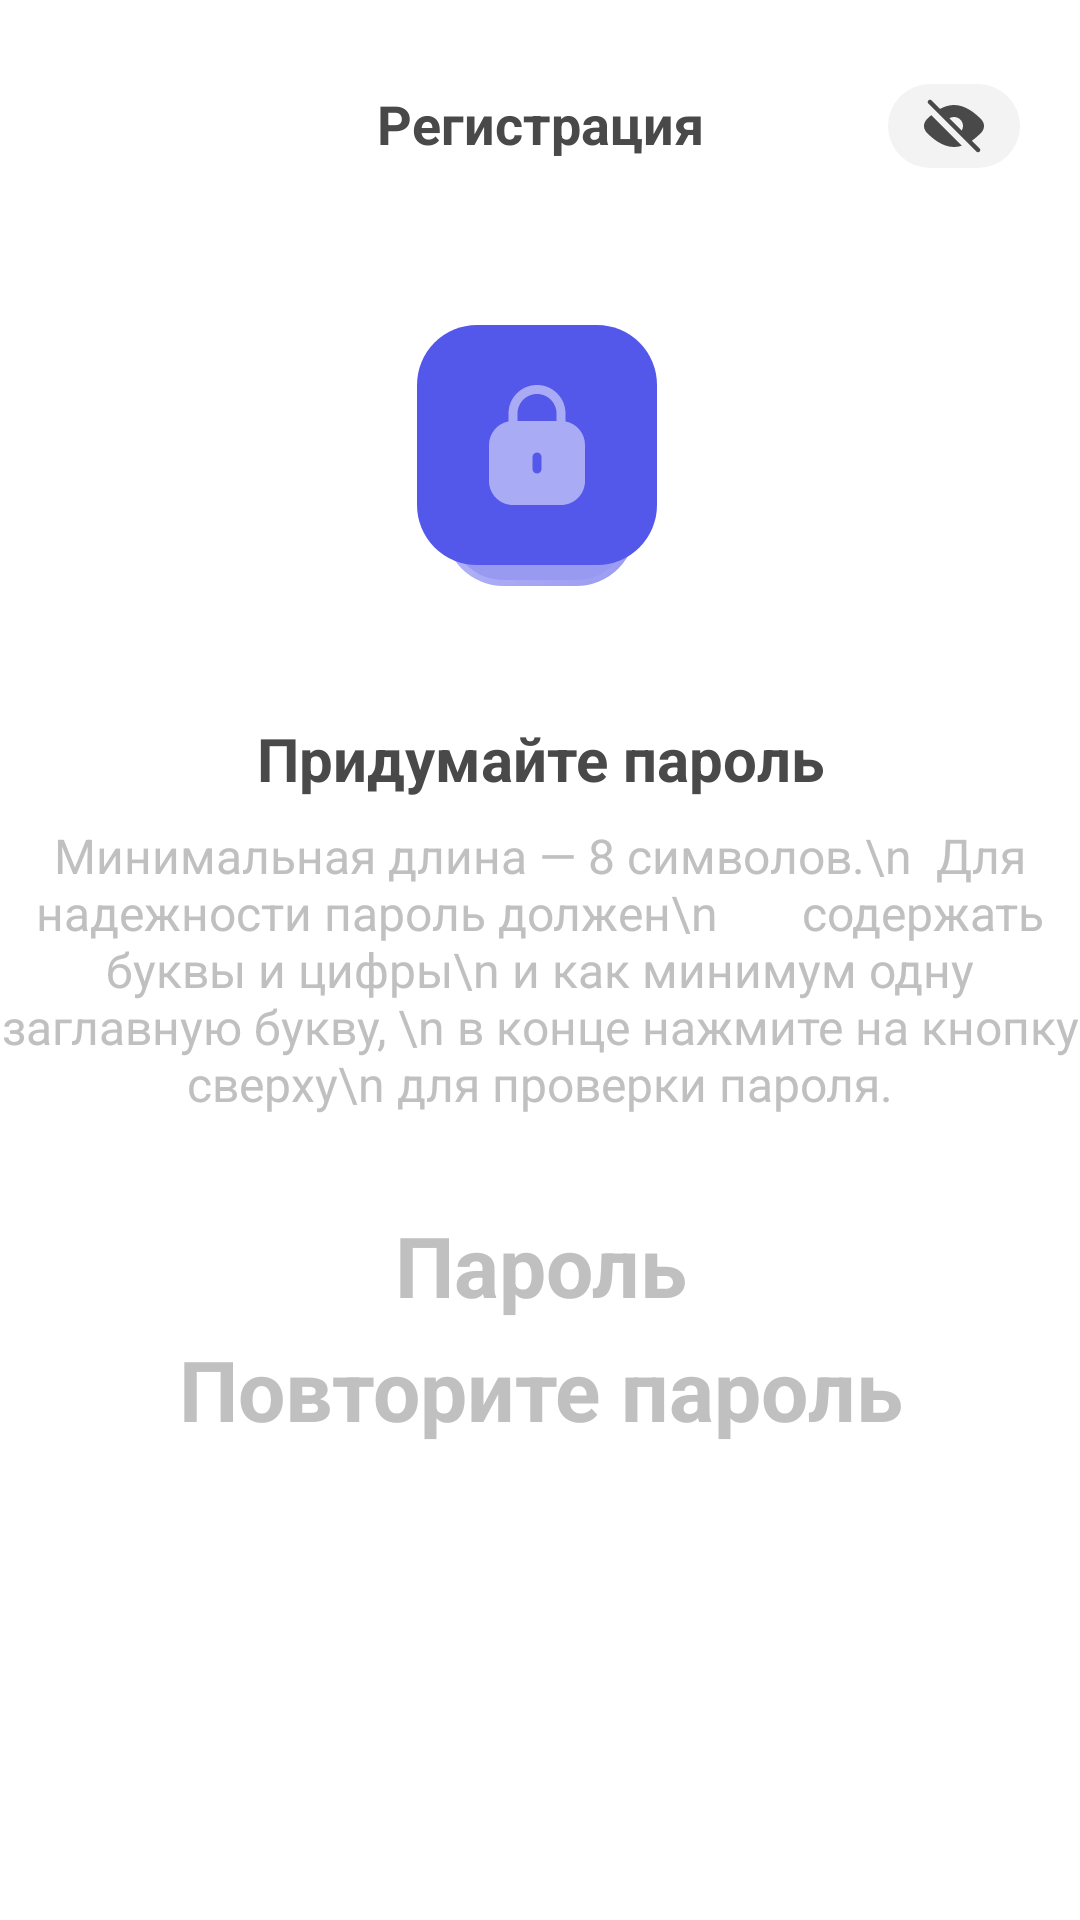

Icon bounding boxes for this 1080×1920 phone screenshot, format (x1, y1, x2, y2):
pass: (417, 325, 657, 586)
taggle: (924, 99, 984, 153)
